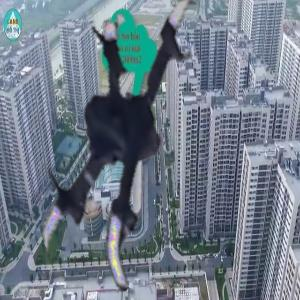drone: (1, 1, 295, 295)
